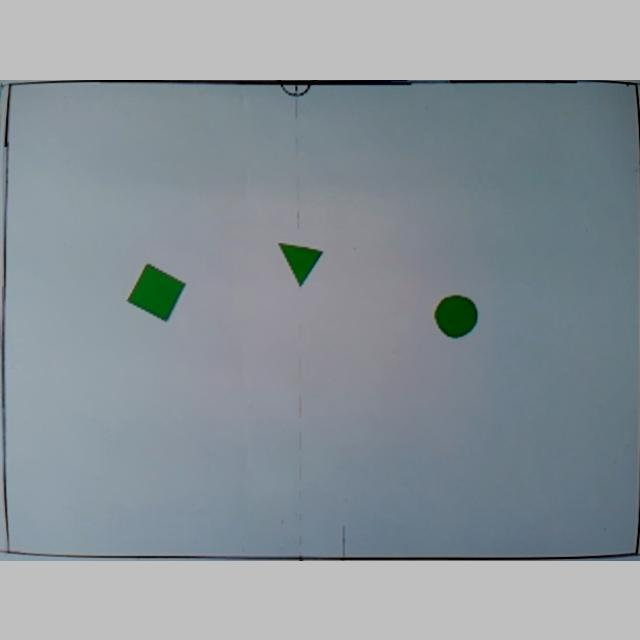greenCircle: (434, 292, 478, 338)
greenSquare: (126, 260, 186, 320)
greenTriangle: (274, 240, 324, 286)
